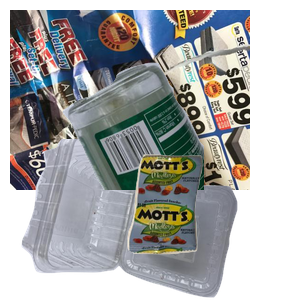glass: (60, 60, 300, 240)
paper: (10, 10, 250, 190)
plastic: (19, 139, 249, 300)
trash: (125, 152, 300, 300)
